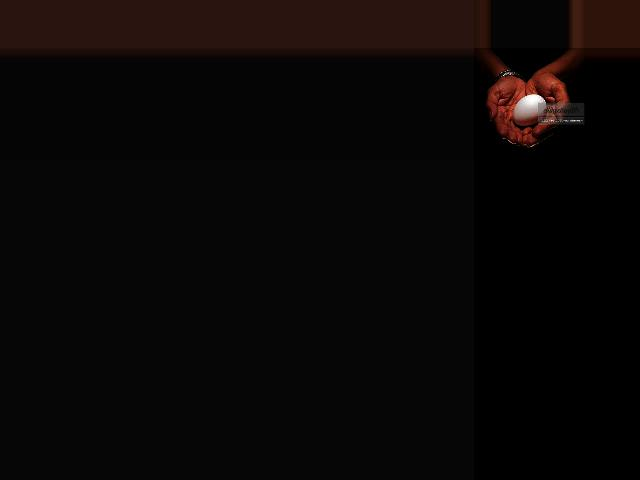egg: (512, 94, 545, 127)
